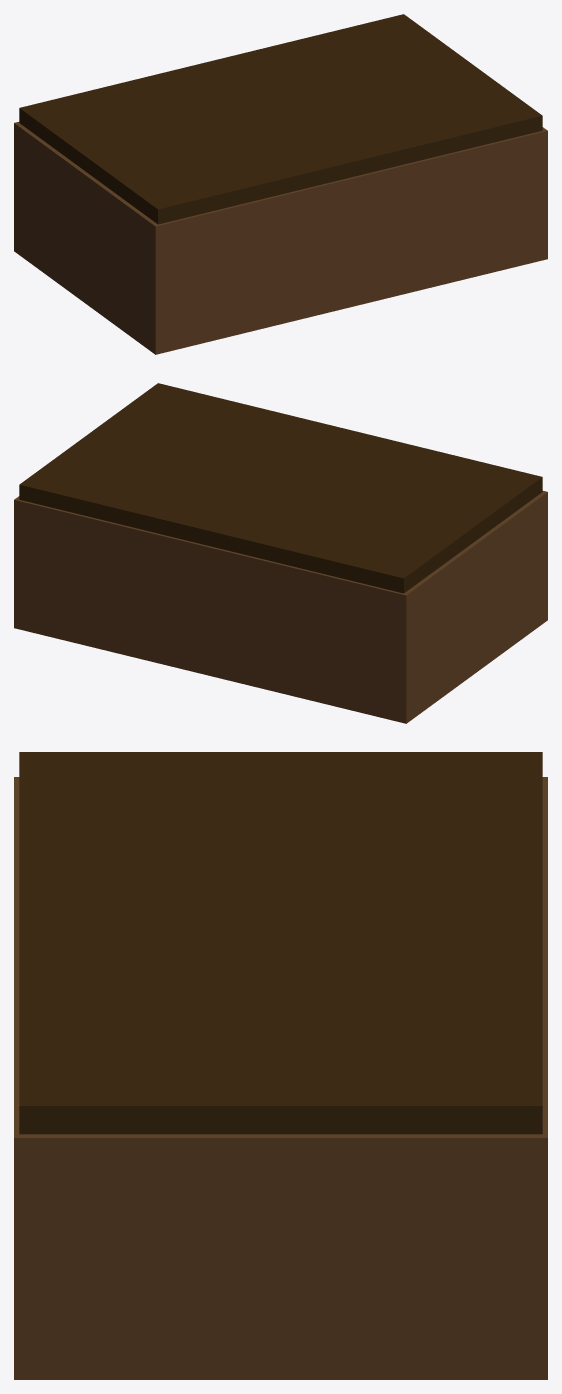
Rendered from Kitchen Dojo.fbx.
3 renders of one model, top to bottom at view 1: azimuth 30°, elevation 25°; view 2: azimuth 150°, elevation 25°; view 3: azimuth 270°, elevation 25°, orthographic. The views are drawn at different scales.
Parts seen in each view (by area): view 1: Cube.001, Cube.002; view 2: Cube.001, Cube.002; view 3: Cube.002, Cube.001.
Boxes of the visible parts, box(x1,y1,x2,y2) form: Cube.001: box(14, 122, 547, 354); Cube.002: box(19, 14, 542, 224); Cube.001: box(14, 491, 547, 723); Cube.002: box(19, 383, 542, 593); Cube.002: box(19, 752, 542, 1134); Cube.001: box(14, 777, 547, 1379).
Size of the model in its own units: 1600 by 559 by 1000.
